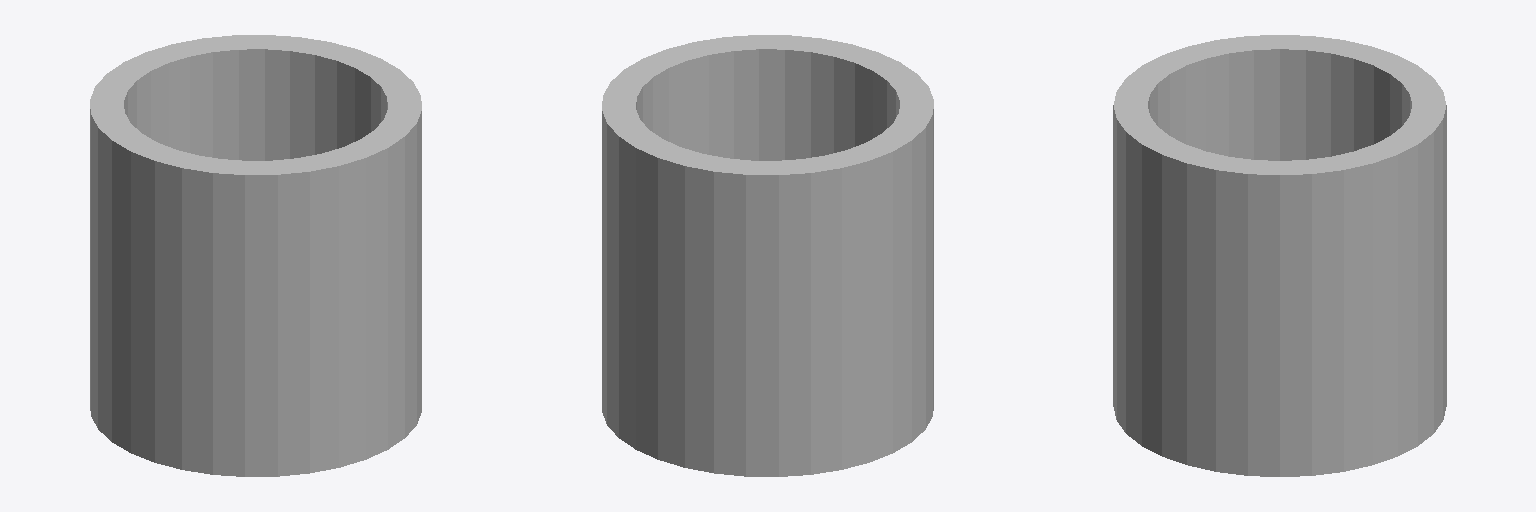
Rendered from Laser.obj.
The picture shows the model from 3 angles: view 1: azimuth 30°, elevation 25°; view 2: azimuth 150°, elevation 25°; view 3: azimuth 270°, elevation 25°; orthographic projection.
Visible parts, largest first — view 1: Cylinder; view 2: Cylinder; view 3: Cylinder.
Part boxes in pixels (left/top/right/bottom): Cylinder: left=90, top=35, right=421, bottom=476; Cylinder: left=602, top=35, right=933, bottom=476; Cylinder: left=1113, top=35, right=1446, bottom=476.
Size of the model in its own units: 0.5119 by 0.5119 by 0.5119.